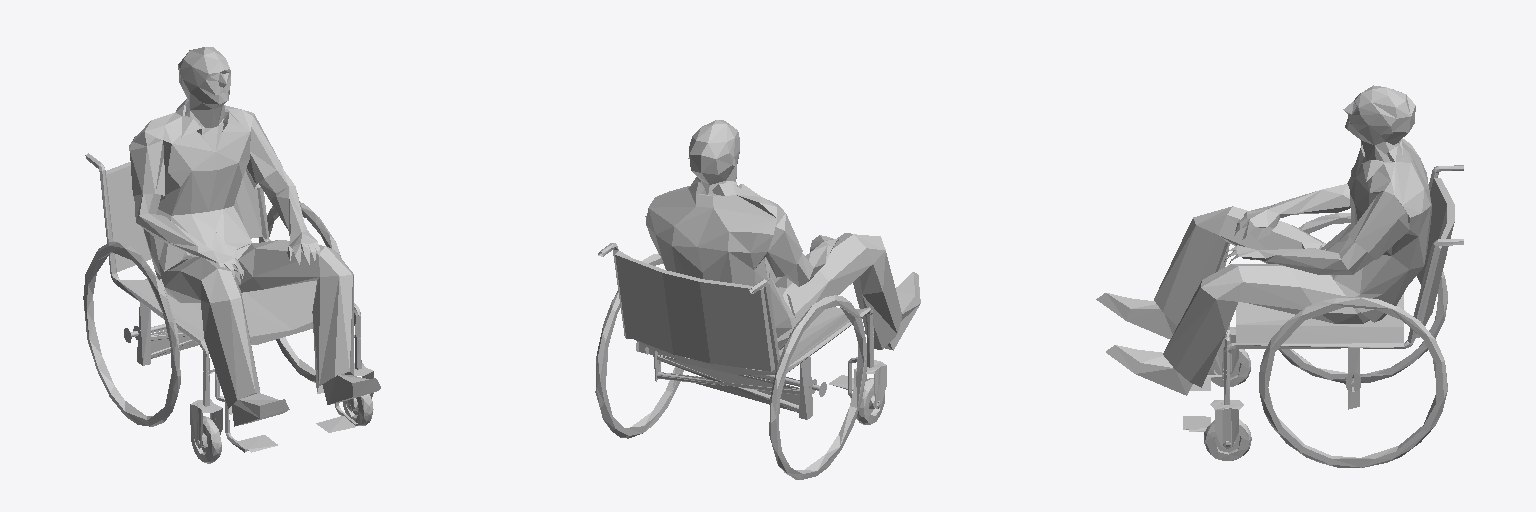
File: wheelchairGuy.obj
The picture shows the model from 3 angles: view 1: azimuth 30°, elevation 25°; view 2: azimuth 150°, elevation 25°; view 3: azimuth 270°, elevation 25°; orthographic projection.
Parts seen in each view (by area): view 1: Cadeira_de_Rodas_001.1; view 2: Cadeira_de_Rodas_001.1; view 3: Cadeira_de_Rodas_001.1.
Boxes of the visible parts, box(x1,y1,x2,y2) form: Cadeira_de_Rodas_001.1: box(83, 47, 380, 463); Cadeira_de_Rodas_001.1: box(595, 120, 920, 479); Cadeira_de_Rodas_001.1: box(1096, 85, 1463, 467).
Bounding box in the file's own units: 48.87 × 86.46 × 85.05.